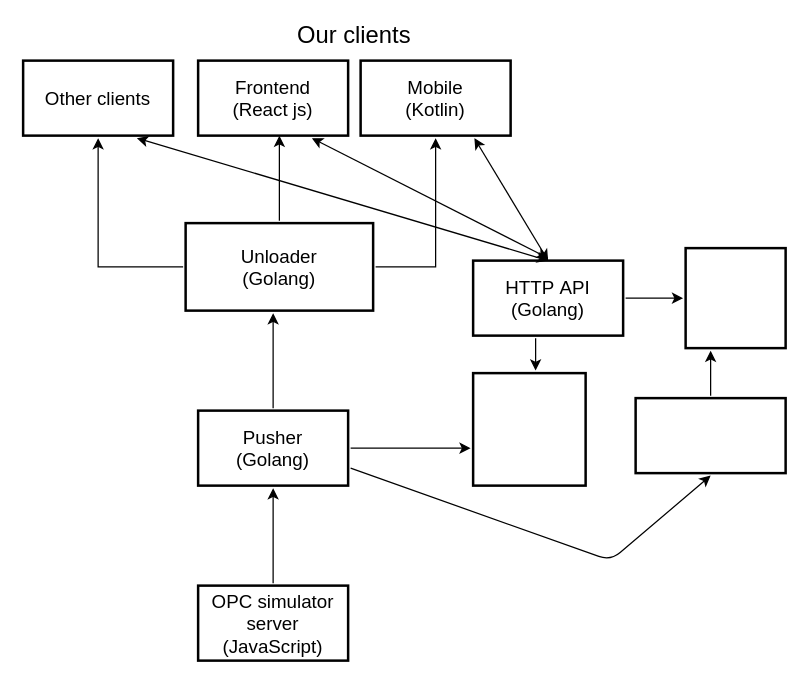
Some shapes in this 808 by 684 pixel diagram are drawn without their labels. Each missing label, with the centre of its shape:
Checkerr (Golang): [710,435]
database (Clickhouse): [528,428]
database (Postgres): [735,297]
